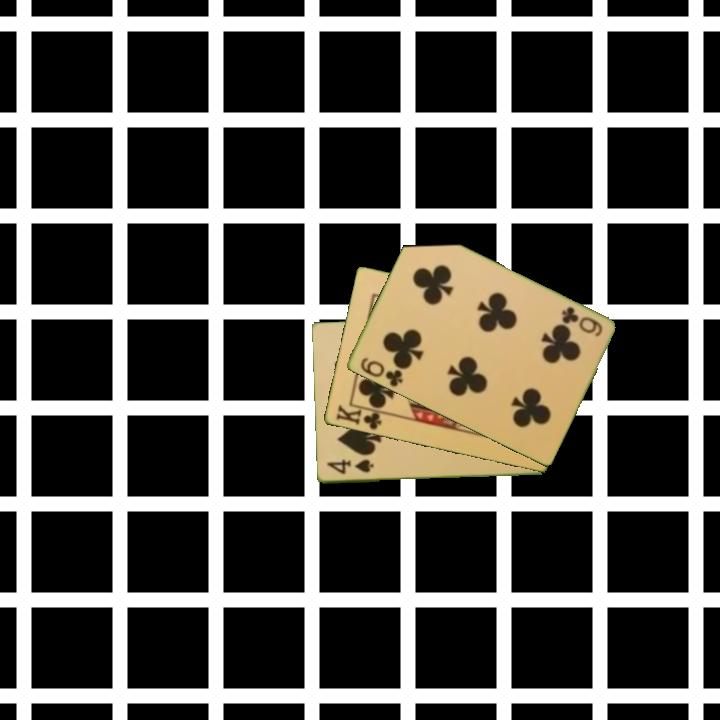4s: (323, 456, 376, 477)
6c: (356, 354, 406, 390), (558, 303, 605, 340)
Kc: (332, 401, 388, 433)
